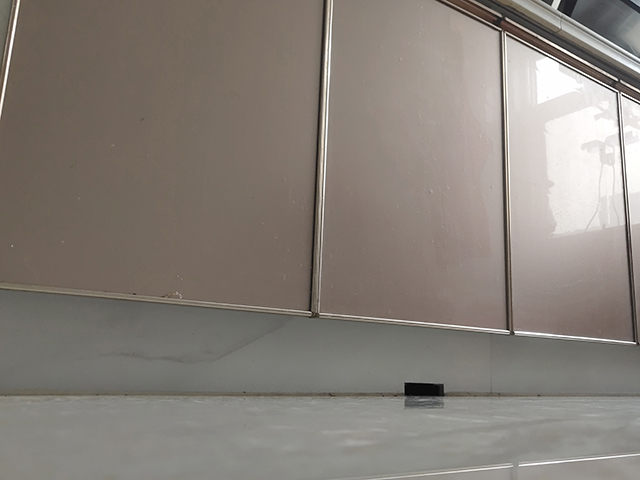cabinet: (1, 1, 640, 400)
